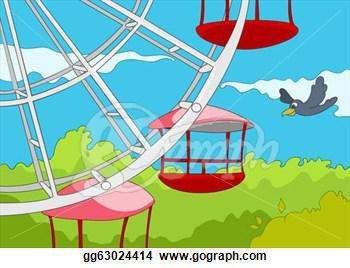bird: (272, 72, 341, 125)
